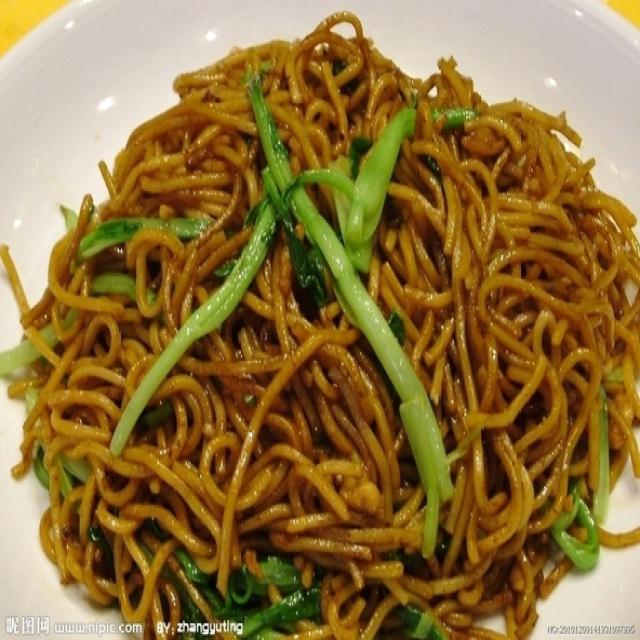面条主食: (13, 16, 636, 626)
